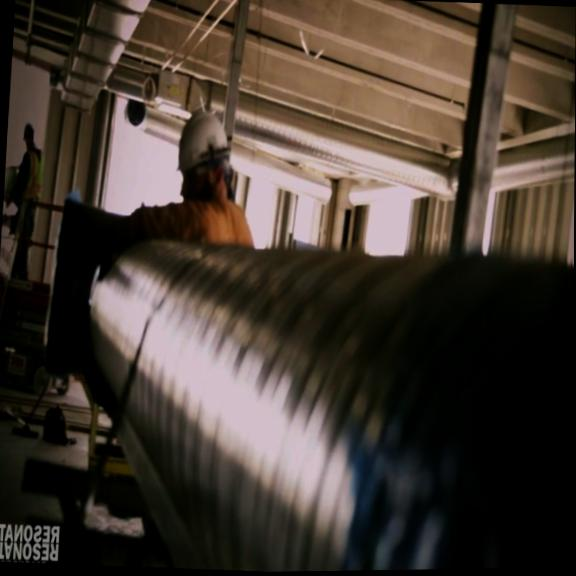safety_vest: (21, 146, 43, 202)
